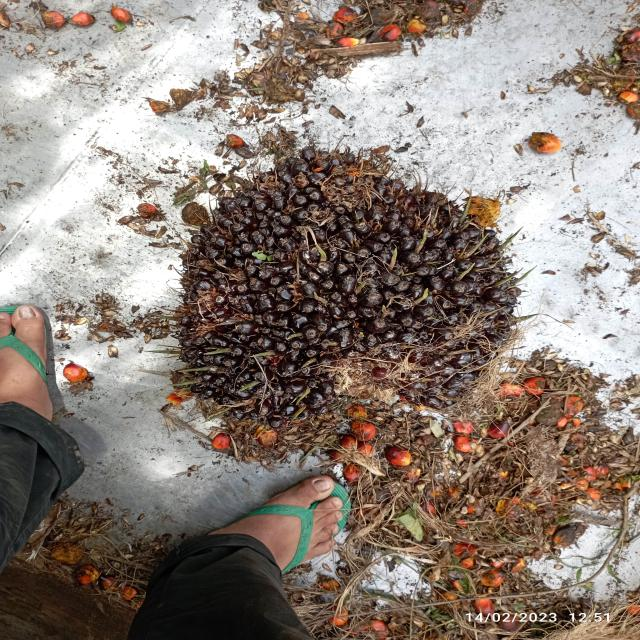fraksi 00: (158, 144, 527, 442)
